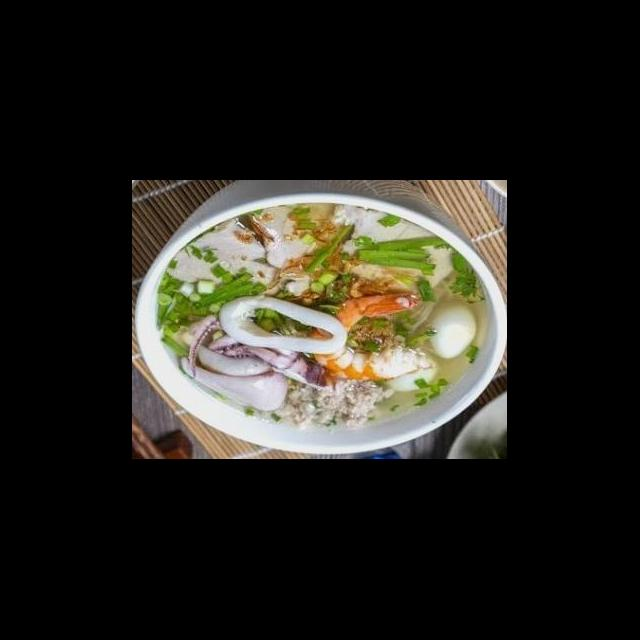muc: (182, 312, 338, 394), (176, 334, 294, 414), (216, 294, 350, 358)
thit bam: (270, 376, 398, 432)
thit heo: (328, 200, 458, 292), (160, 215, 290, 298), (244, 200, 346, 302)
tom: (306, 290, 438, 390)
trung: (428, 300, 480, 362), (384, 352, 442, 394)
